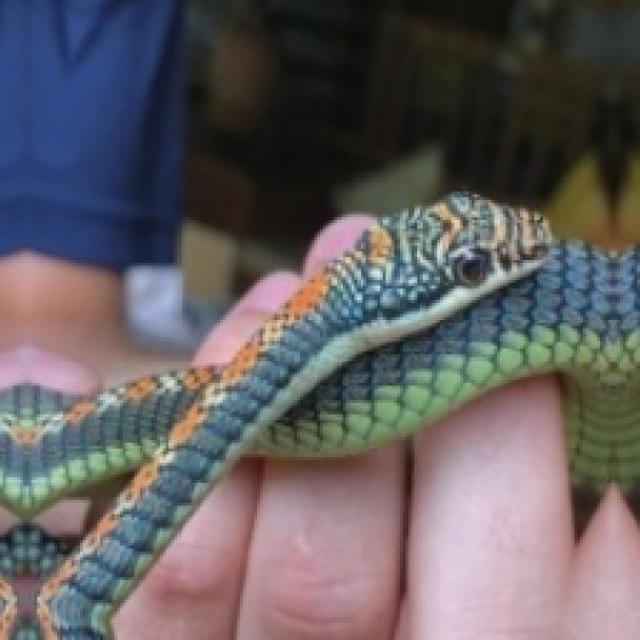paradise tree snake: (0, 194, 637, 637)
